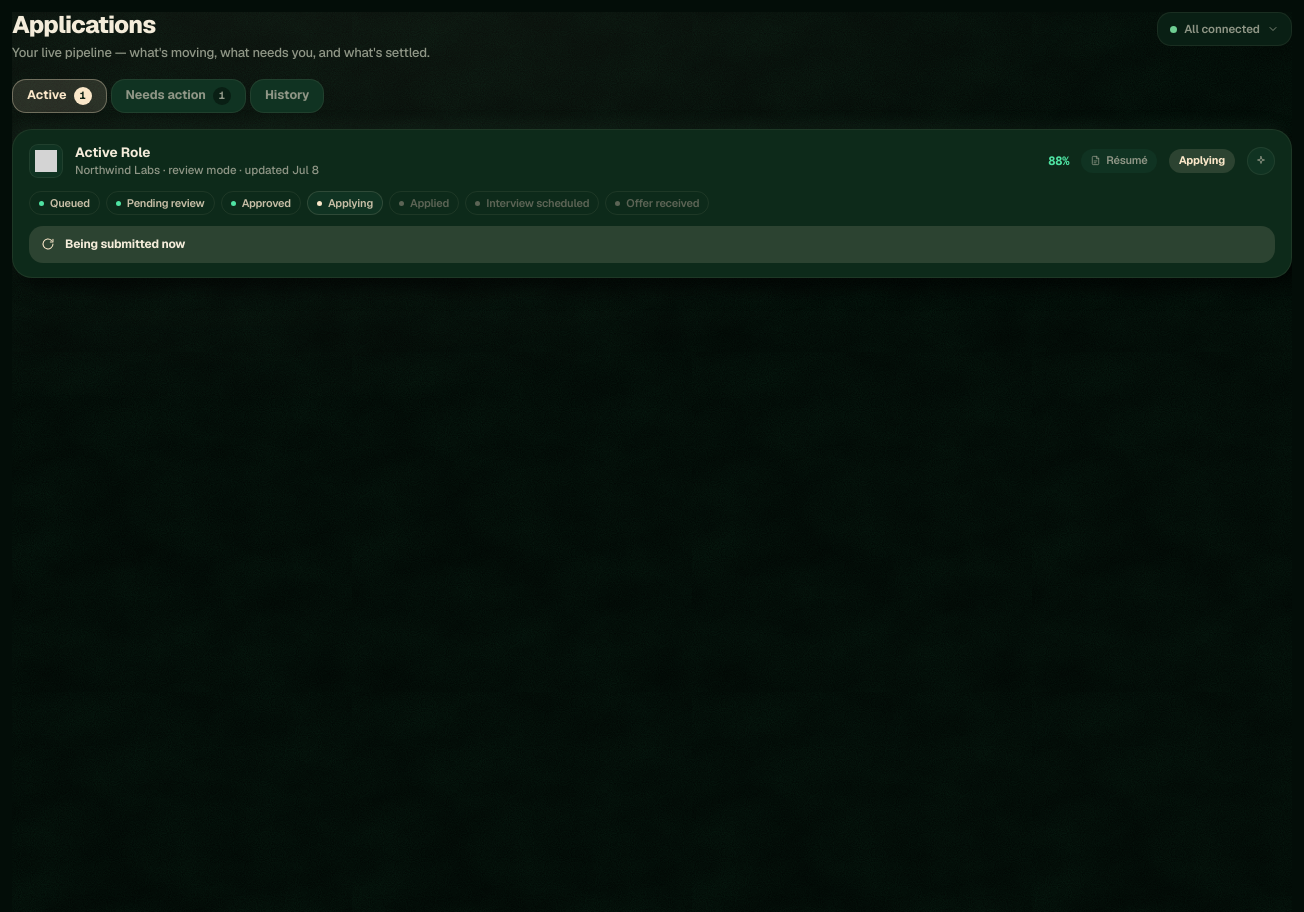
Test: ApplicationsPage — merged Active / Needs action / History › an application never appears in more than one of the three views
Expected: the text "Active Role" is shown, left=75, top=143, right=150, bottom=161
Expected: the text "Pending Role" is not shown
Click the tab "Needs action 1" at (178, 96), box left=111, top=79, right=246, bottom=113
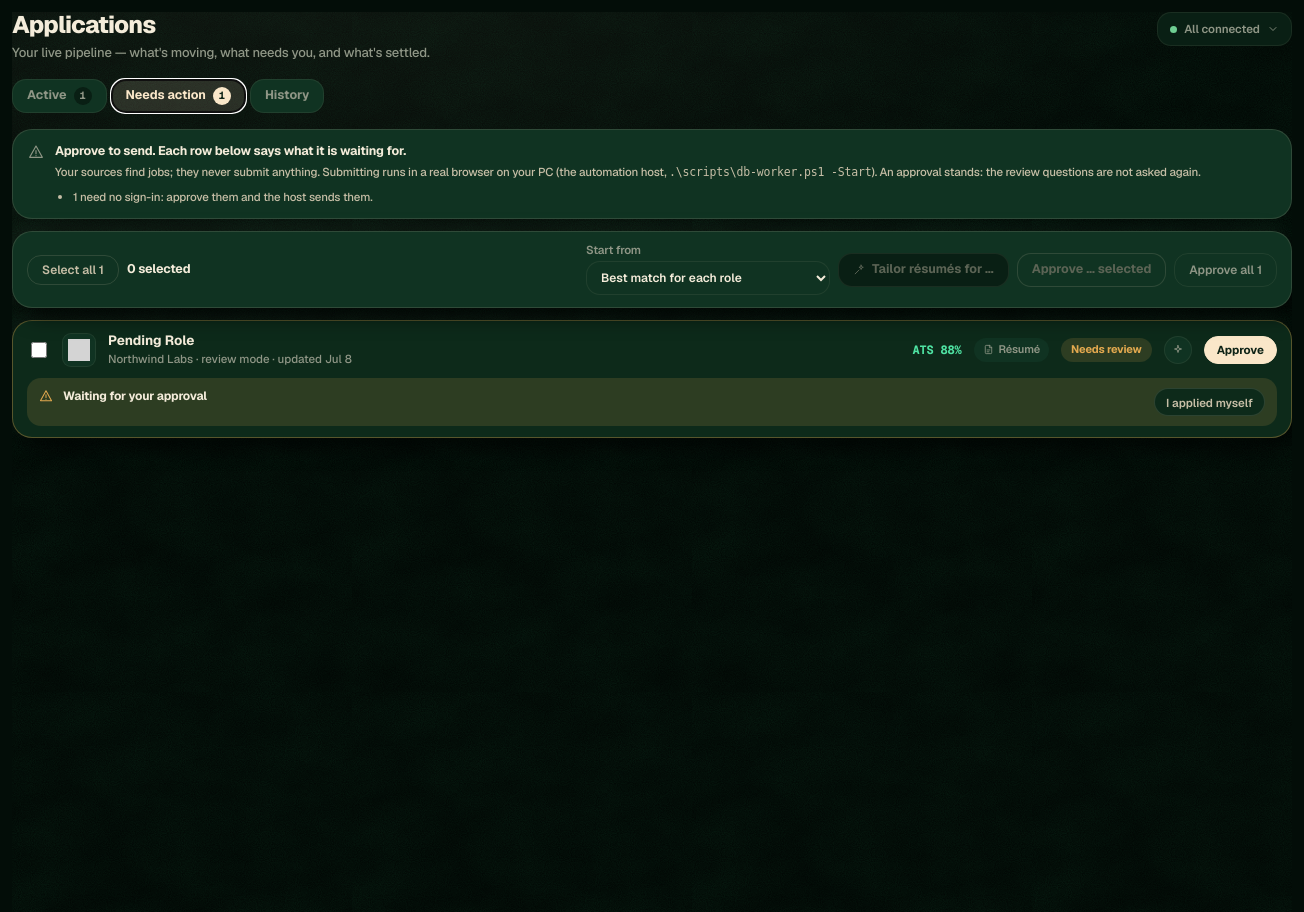
Expected: the text "Settled Role" is not shown
Expected: the text "Pending Role" is shown, left=108, top=332, right=194, bottom=350
Expected: the button "Active Role" is gone
Click the tab "History" at (287, 96), box left=250, top=79, right=324, bottom=113
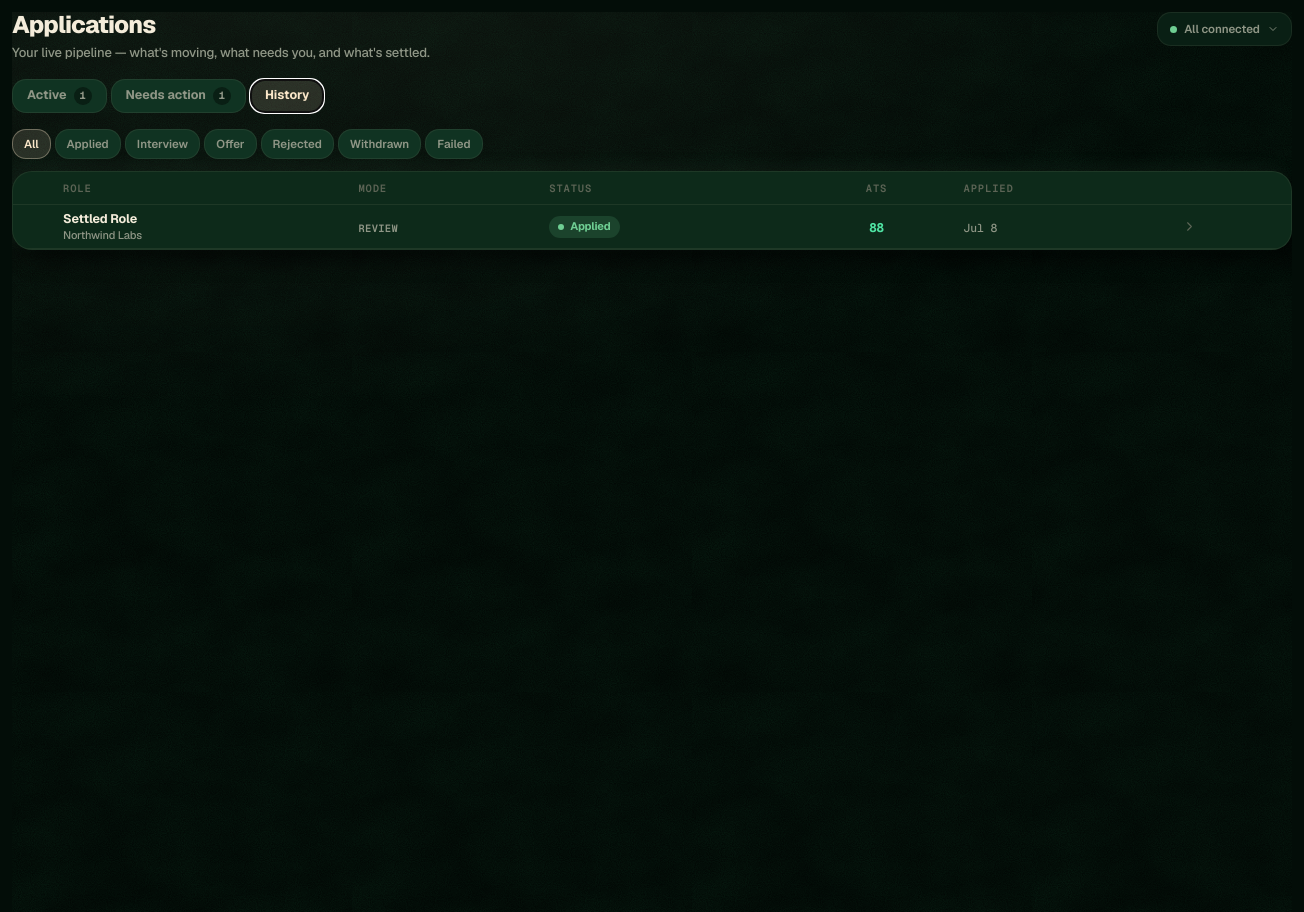
Expected: the button "Active Role" is not shown
Expected: the text "Settled Role" is shown, left=63, top=210, right=137, bottom=227
Expected: the button "Pending Role" is gone
